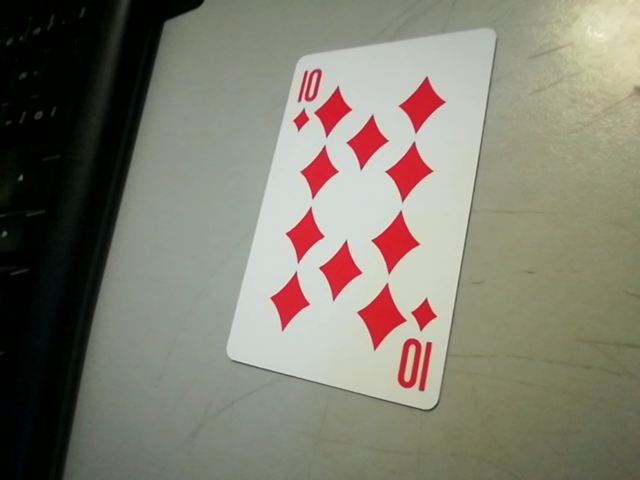fk 10: (282, 63, 329, 132)
